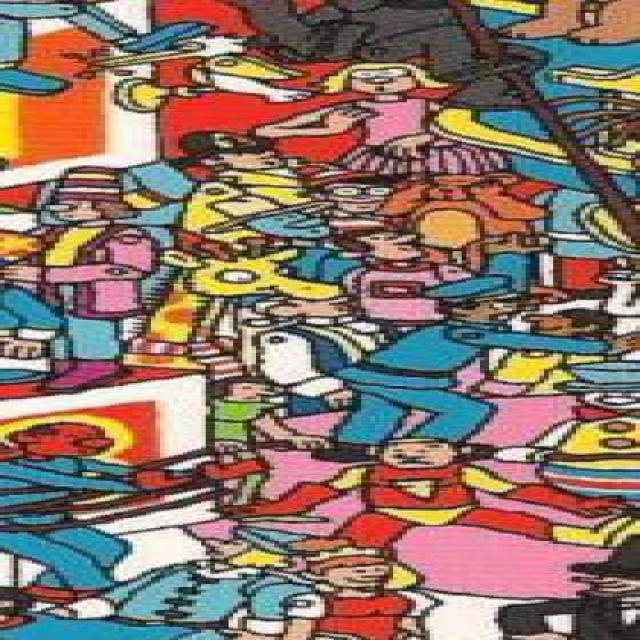waldo: (297, 165, 412, 212)
